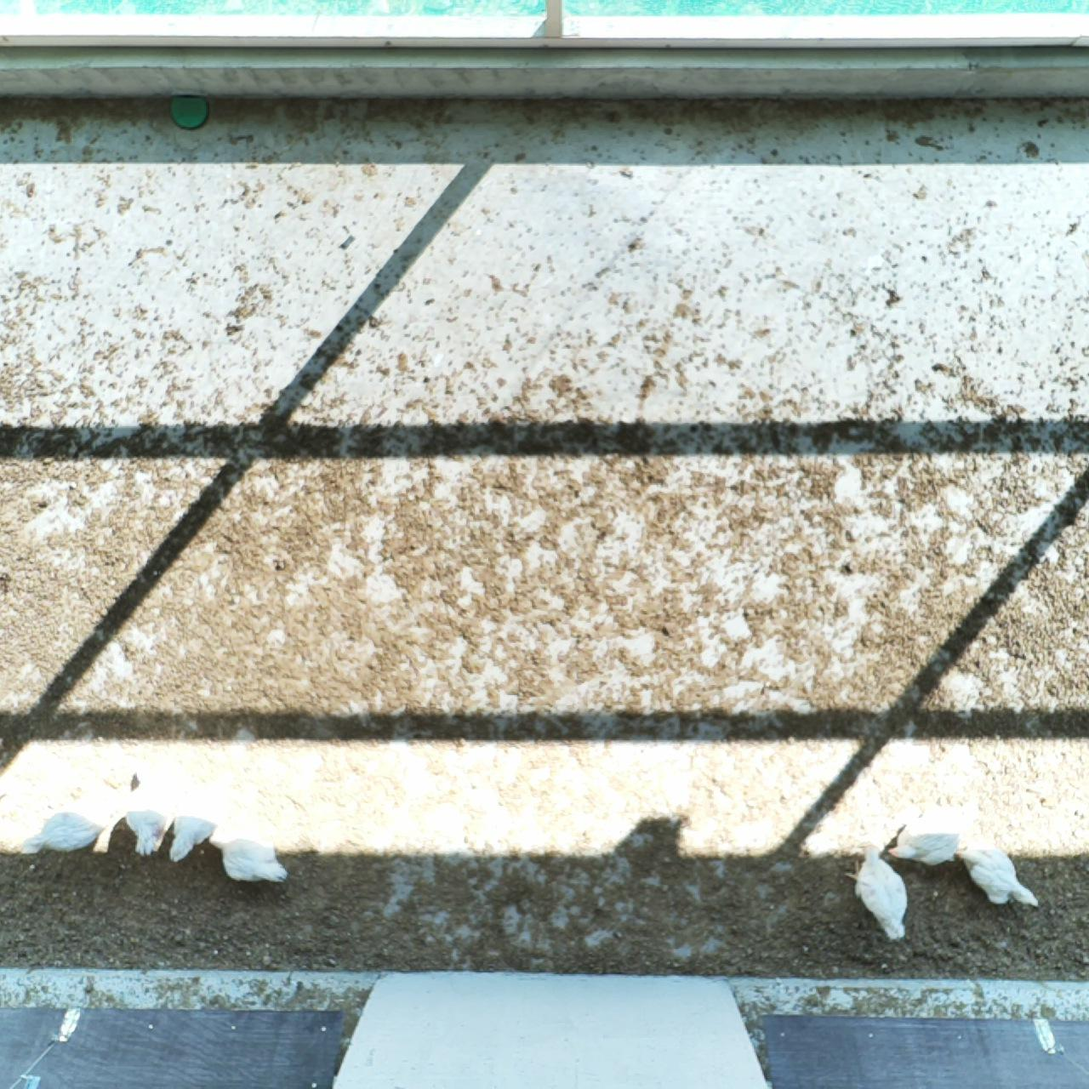chicken: (841, 837, 912, 944), (200, 818, 290, 886), (953, 840, 1038, 908), (885, 799, 963, 867), (18, 806, 105, 860), (165, 779, 220, 862), (119, 773, 170, 857)
